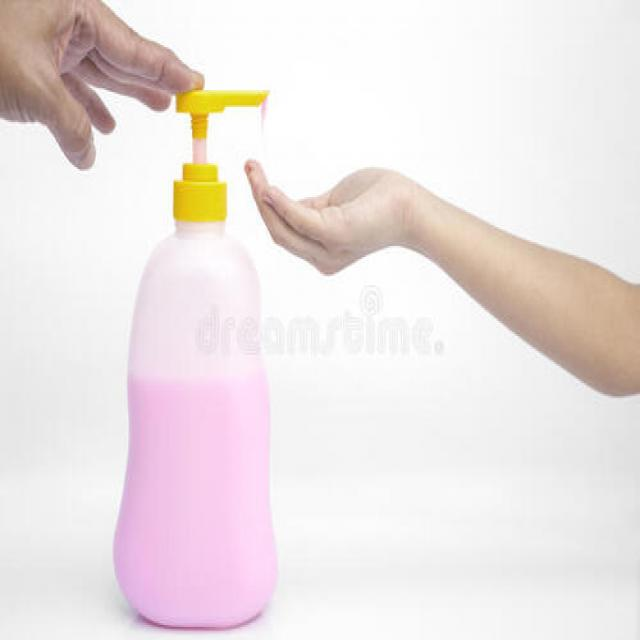sanitizer: (120, 88, 276, 621)
